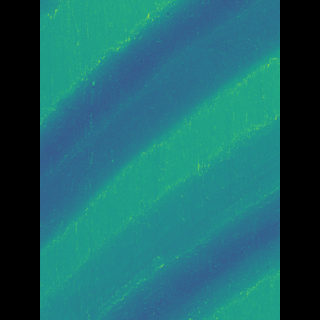Loch: (68, 0, 250, 254), (110, 182, 251, 319)
